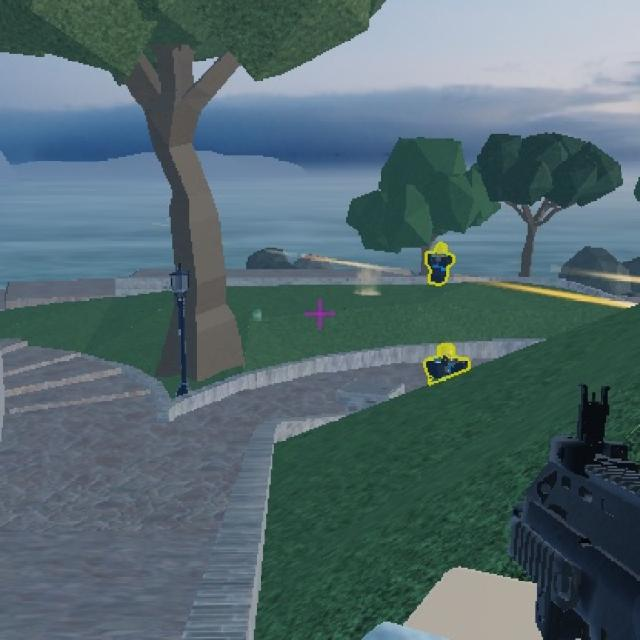player: (426, 339, 461, 381), (426, 240, 452, 285)
